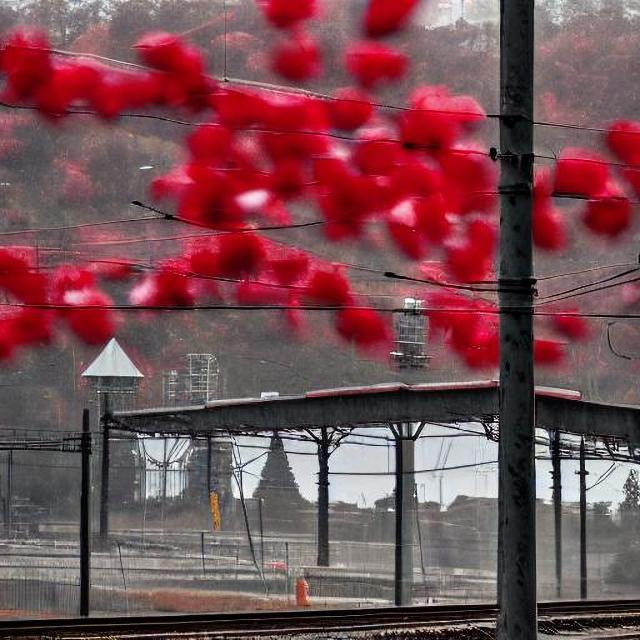balloon: (104, 3, 498, 341), (7, 201, 392, 374), (0, 12, 233, 141), (522, 136, 636, 260)
floating object: (208, 487, 223, 530), (295, 576, 311, 607)
